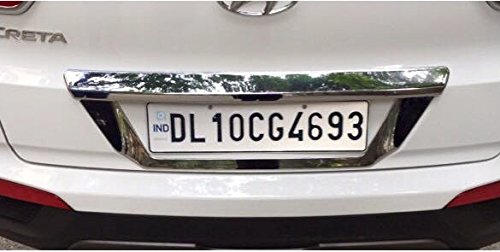number_plate: (138, 77, 381, 185)
